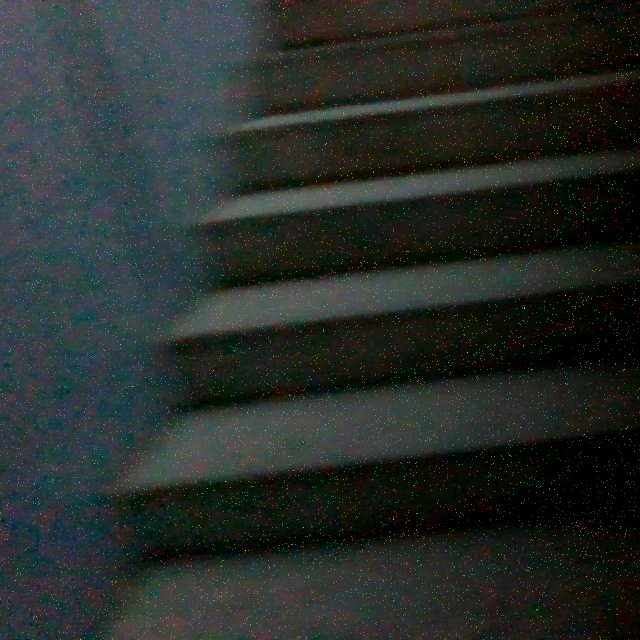stair: (112, 0, 640, 615)
